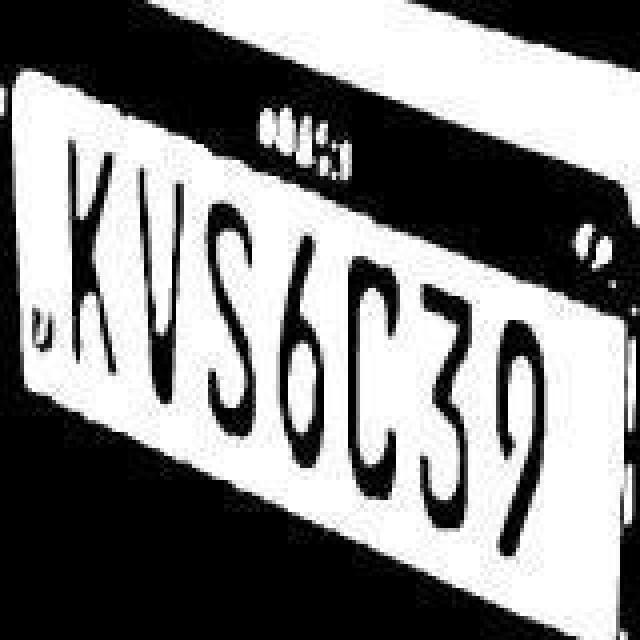3: (416, 278, 480, 546)
6: (272, 232, 336, 488)
9: (488, 320, 552, 568)
C: (332, 254, 404, 514)
K: (58, 124, 126, 396)
S: (196, 196, 268, 460)
V: (122, 160, 190, 416)
